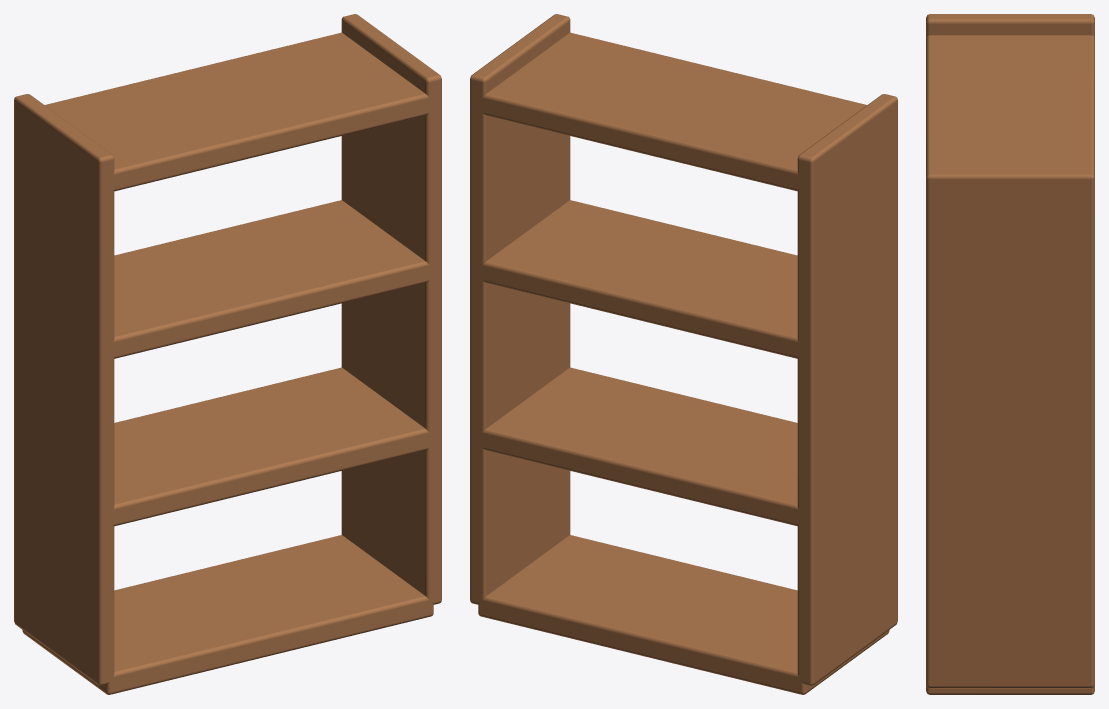
Rendered from wp-presentoir-a-chaussures.glb.
3 views of the same model, side by side, from view 1: azimuth 30°, elevation 25°; view 2: azimuth 150°, elevation 25°; view 3: azimuth 270°, elevation 25° (orthographic). The views are drawn at different scales.
Visible parts, largest first — view 1: wp-presentoir-a-chaussures; view 2: wp-presentoir-a-chaussures; view 3: wp-presentoir-a-chaussures.
Part boxes in pixels (x1=…): wp-presentoir-a-chaussures: x1=14, y1=14, x2=441, y2=694; wp-presentoir-a-chaussures: x1=470, y1=14, x2=897, y2=694; wp-presentoir-a-chaussures: x1=926, y1=14, x2=1094, y2=694.
Bounding box in the file's own units: 0.8 × 1.2 × 0.35.
